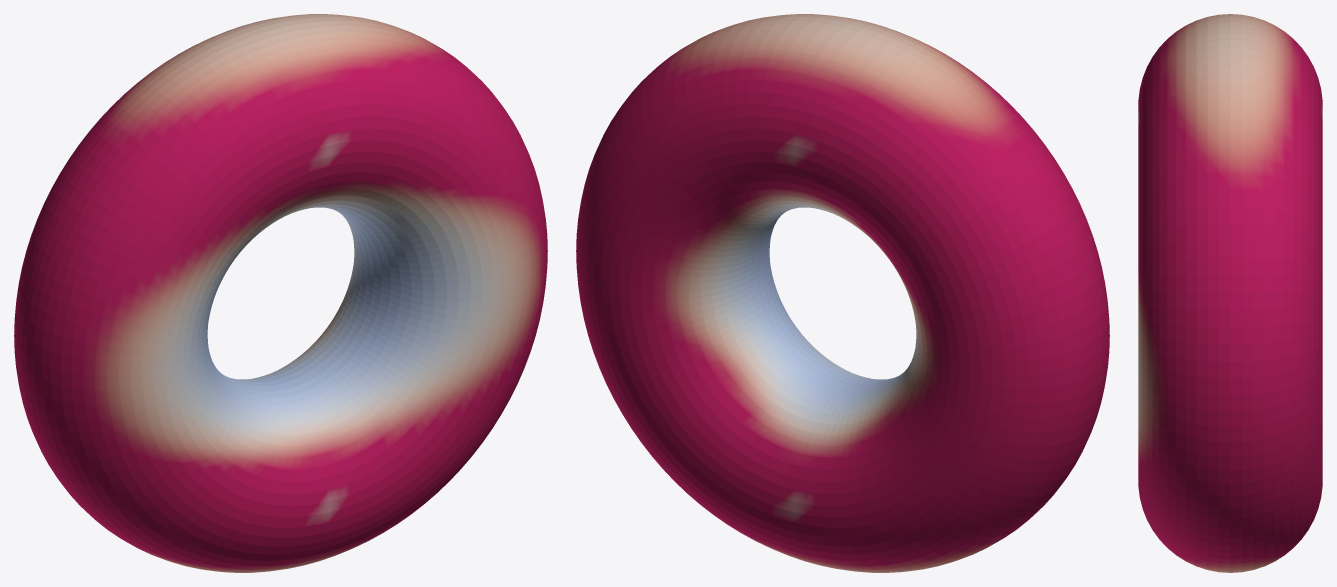
3 renders of one model, left to right at view 1: azimuth 30°, elevation 25°; view 2: azimuth 150°, elevation 25°; view 3: azimuth 270°, elevation 25°, orthographic. The views are drawn at different scales.
Parts seen in each view (by area): view 1: world; view 2: world; view 3: world.
Boxes of the visible parts, x1,y1,x2,y2 form: world: (14,14,547,572); world: (576,14,1109,572); world: (1138,14,1322,572).
Size of the model in its own units: 27.87 by 27.87 by 9.18.
